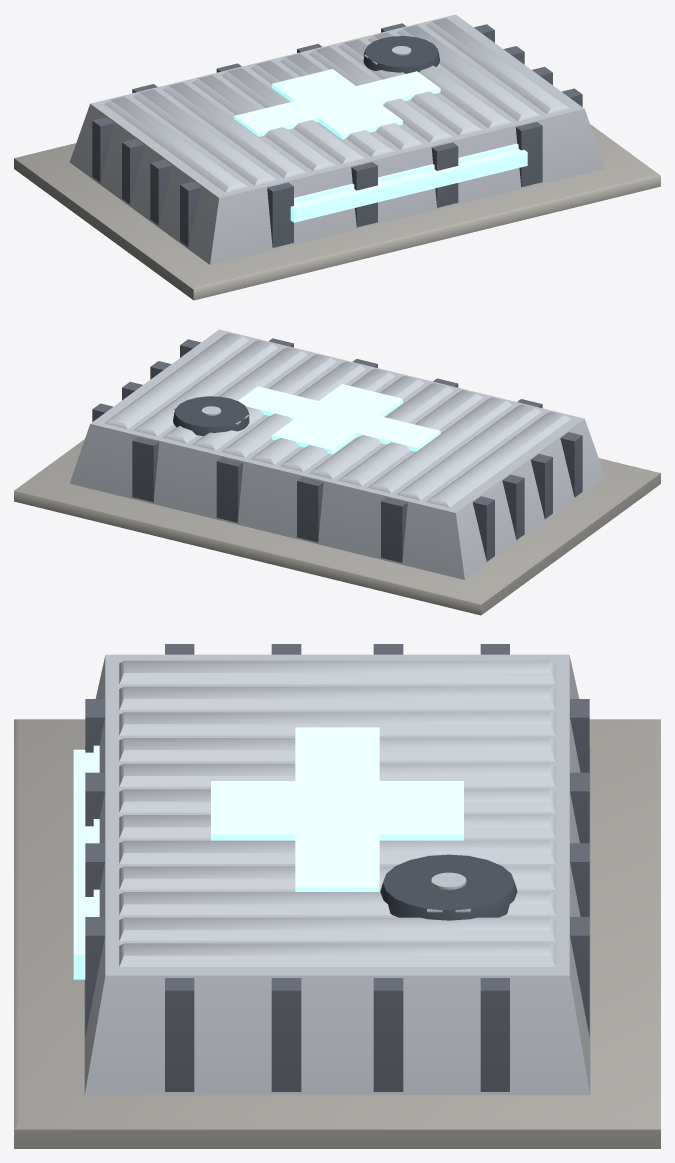
File: cahosp.glb
3 views of the same model, one above another, from view 1: azimuth 30°, elevation 25°; view 2: azimuth 150°, elevation 25°; view 3: azimuth 270°, elevation 25° (orthographic). The views are drawn at different scales.
Parts seen in each view (by area): view 1: Hull; view 2: Hull; view 3: Hull.
Boxes of the visible parts, x1,y1,x2,y2 form: Hull: (14, 14, 660, 300); Hull: (14, 329, 660, 615); Hull: (14, 644, 660, 1148).
Bounding box in the file's own units: 9.94 × 1.66 × 6.62.
